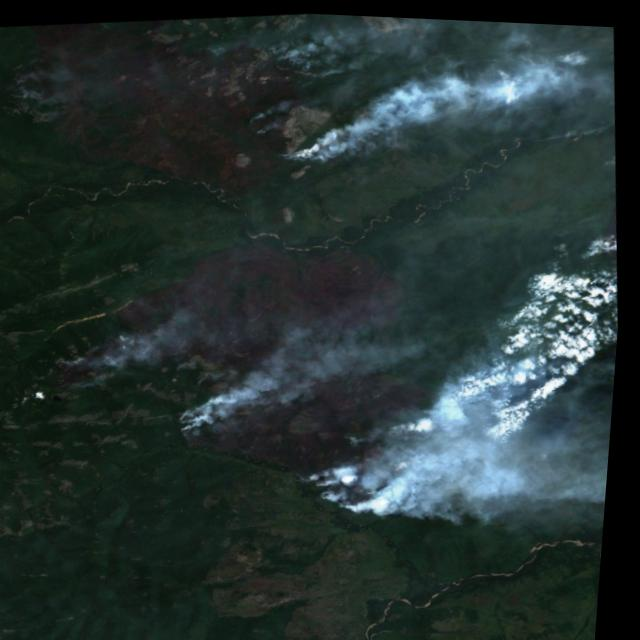fire: (300, 403, 446, 527), (260, 130, 319, 173)
